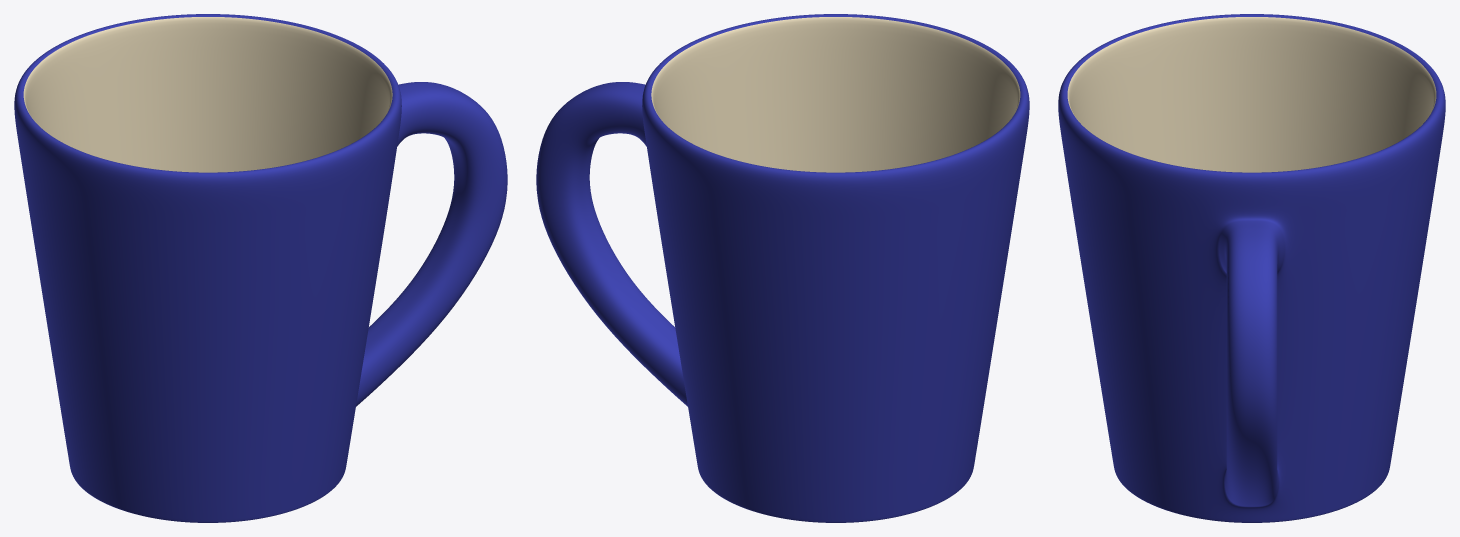
The model's file is uploads_files_2823299_mug.fbx.
3 views of the same model, side by side, from view 1: azimuth 30°, elevation 25°; view 2: azimuth 150°, elevation 25°; view 3: azimuth 270°, elevation 25° (orthographic).
Visible parts, largest first — view 1: Cylinder; view 2: Cylinder; view 3: Cylinder.
Part boxes in pixels (<box>): Cylinder: <box>14,14,507,522</box>; Cylinder: <box>536,14,1029,522</box>; Cylinder: <box>1058,14,1445,522</box>.
Bounding box in the file's own units: 8.46 × 6.5 × 6.14.
